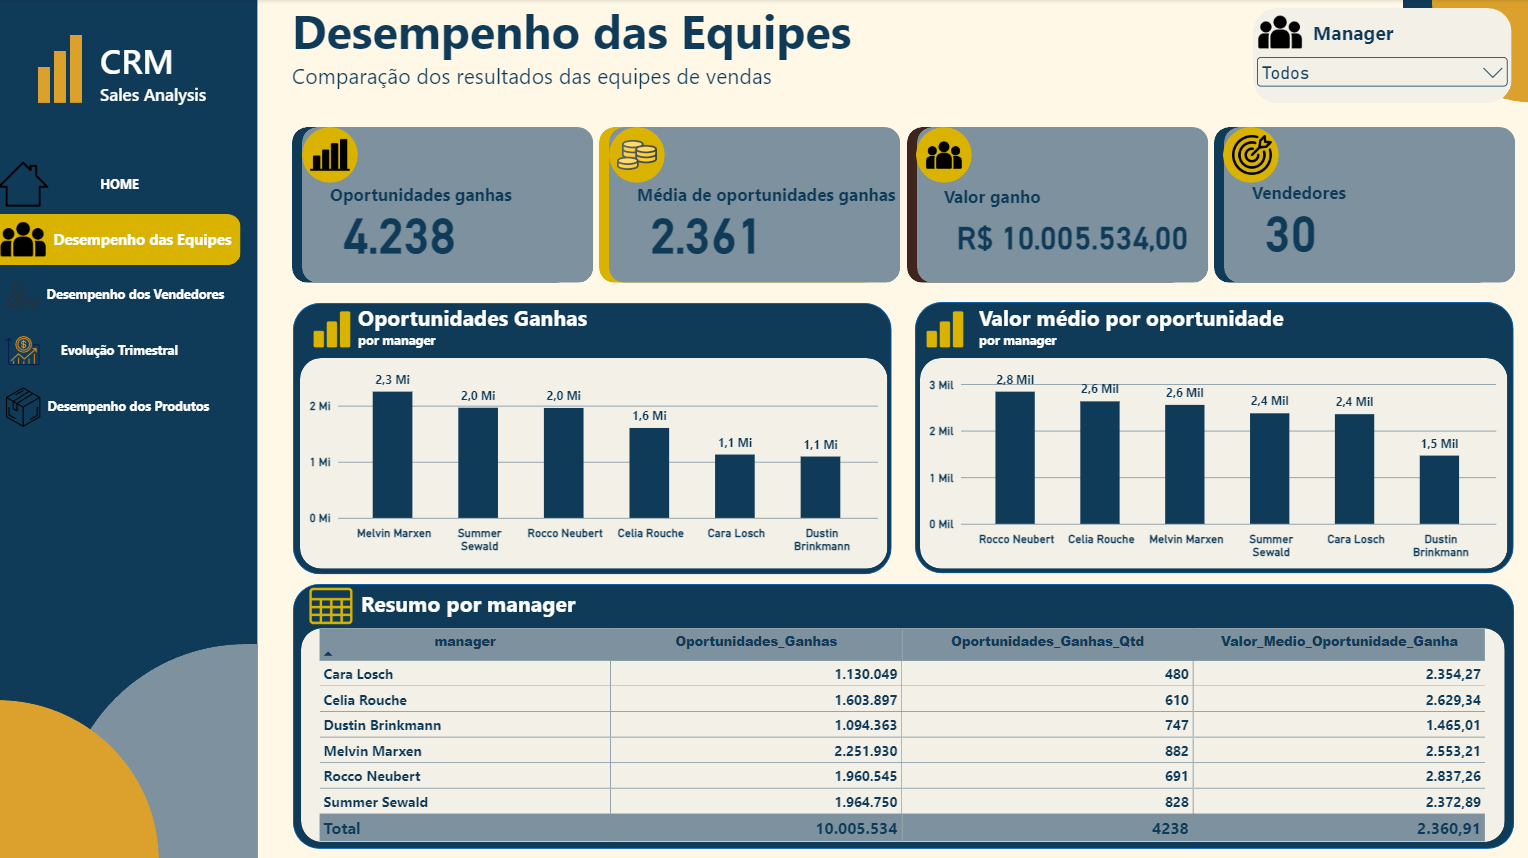

This screenshot's page, from the dashboard's own definition file:
{"tool":"powerbi","page":{"name":"Desempenho das equipes","canvas":[1920,1080],"ordinal":1},"visuals":[{"type":"shape","box":[0,0,325,1080],"z":0,"group":"g1"},{"type":"shape","box":[0,0,1920,1080],"z":0},{"type":"group","id":"g1","title":"obj menu","box":[0,0,325,1080],"z":0,"group":"g4"},{"type":"shape","box":[1760.9,0,159.1,98.7],"z":0,"group":"g9"},{"type":"shape","box":[1572.2,11.8,324.2,119.4],"z":0,"group":"g17"},{"type":"shape","box":[368,160.4,350.5,195.3],"z":0,"group":"g13"},{"type":"shape","box":[753,160.4,350.5,195.3],"z":0,"group":"g6"},{"type":"shape","box":[1138,160.4,350.5,195.3],"z":0,"group":"g5"},{"type":"shape","box":[1523,160.4,350.5,195.3],"z":0,"group":"g2"},{"type":"group","id":"g2","title":"Cartão n. Vendedores","box":[1523,160.4,377,195.3],"z":0,"group":"g12"},{"type":"actionButton","box":[0,200,304,64],"z":0,"group":"g7"},{"type":"actionButton","box":[0,270,304,64],"z":0,"group":"g10"},{"type":"actionButton","box":[0,340,304,64],"z":0,"group":"g14"},{"type":"shape","box":[1149.2,380.2,750,340],"z":0,"group":"g11"},{"type":"shape","box":[369.7,382,750,340],"z":0,"group":"g8"},{"type":"actionButton","box":[0,410,304,64],"z":0,"group":"g16"},{"type":"actionButton","box":[0,480,304,64],"z":0,"group":"g18"},{"type":"group","id":"g3","title":"Resumo por manager","box":[370,733.4,1530,346.8],"z":0,"group":"g15"},{"type":"shape","box":[370,733.4,1530,331.7],"z":0,"group":"g3"},{"type":"group","id":"g4","title":"Menu","box":[0,0,325,1080],"z":500},{"type":"group","id":"g5","title":"Cartão valor ganho ","box":[1138,160.4,377,195.3],"z":500,"group":"g12"},{"type":"shape","box":[1796.2,0,123.8,129.7],"z":1000,"group":"g9"},{"type":"slicer","fields":{"Values":["crm_sales sales_teams.manager"]},"box":[1572.2,67.8,324.2,61.9],"z":1000,"group":"g17"},{"type":"shape","box":[50,85,15,45],"z":1000,"group":"g1"},{"type":"shape","box":[380,160,365,195.3],"z":1000,"group":"g13"},{"type":"group","id":"g6","title":"Cartão média de oportunidades ganhas","box":[753,160.4,377,195.3],"z":1000,"group":"g12"},{"type":"shape","box":[765,160.4,365,195.3],"z":1000,"group":"g6"},{"type":"shape","box":[1150,160.4,365,195.3],"z":1000,"group":"g5"},{"type":"shape","box":[1535,160.4,365,195.3],"z":1000,"group":"g2"},{"type":"group","id":"g7","title":"Home","box":[0,200,304.3,64.6],"z":1000,"group":"g4"},{"type":"textbox","box":[0,200.6,304.3,64],"z":1000,"group":"g7"},{"type":"image","box":[0,269.7,63.4,63.4],"z":1000,"group":"g10"},{"type":"textbox","box":[0,340.4,304.3,64],"z":1000,"group":"g14"},{"type":"group","id":"g8","title":"Oportunidades ganhas","box":[369.7,381.7,771.2,340.3],"z":1000,"group":"g15"},{"type":"textbox","box":[0,410,304.3,64],"z":1000,"group":"g16"},{"type":"shape","box":[1156,450,736,264],"z":1000,"group":"g11"},{"type":"shape","box":[378,450.1,736,264],"z":1000,"group":"g8"},{"type":"textbox","box":[0,480,304.3,64],"z":1000,"group":"g18"},{"type":"shape","box":[380,788.4,1508.3,268.3],"z":1000,"group":"g3"},{"type":"textbox","box":[368.4,0,1146.4,160.6],"z":2000,"group":"g9"},{"type":"group","id":"g9","title":"Título &  obj","box":[368.4,0,1551.6,160.6],"z":2000},{"type":"image","box":[1575.1,11.8,63.4,60.4],"z":2000,"group":"g17"},{"type":"shape","box":[70,65,15,65],"z":2000,"group":"g1"},{"type":"shape","box":[765.6,160.4,70,70],"z":2000,"group":"g6"},{"type":"shape","box":[1149.2,160.4,70,70],"z":2000,"group":"g5"},{"type":"shape","box":[1534.6,160.4,70,70],"z":2000,"group":"g2"},{"type":"image","box":[0,200.4,63.4,63.4],"z":2000,"group":"g7"},{"type":"cardVisual","title":"Oportunidades ganhas","fields":{"Data":["crm_sales sales_pipeline.Oportunidades_Ganhas_Qtd_Display"]},"box":[415,230,330,104],"z":2000,"group":"g13"},{"type":"group","id":"g10","title":"Desempenho das equipes","box":[0,269.7,304.3,64.3],"z":2000,"group":"g4"},{"type":"textbox","box":[0,270,304.3,64],"z":2000,"group":"g10"},{"type":"image","box":[0,340.4,63.4,63.4],"z":2000,"group":"g14"},{"type":"group","id":"g11","title":"Valor médio oportunidade","box":[1149.2,380.2,770.8,340],"z":2000,"group":"g15"},{"type":"image","box":[0,409.6,63.4,63.4],"z":2000,"group":"g16"},{"type":"columnChart","fields":{"Category":["crm_sales sales_teams.manager"],"Y":["crm_sales sales_pipeline.Valor_Medio_Oportunidade_Ganha"]},"box":[1150,441.5,742.9,278.6],"z":2000,"group":"g11"},{"type":"clusteredColumnChart","fields":{"Category":["crm_sales sales_teams.manager"],"Y":["crm_sales sales_pipeline.Oportunidades_Ganhas"]},"box":[369.9,442.1,748.5,271.1],"z":2000,"group":"g8"},{"type":"image","box":[0,480.4,63.4,63.4],"z":2000,"group":"g18"},{"type":"tableEx","fields":{"Values":["crm_sales sales_teams.manager","crm_sales sales_pipeline.Oportunidades_Ganhas","crm_sales sales_pipeline.Oportunidades_Ganhas_Qtd","crm_sales sales_pipeline.Valor_Medio_Oportunidade_Ganha"]},"box":[386.1,775.1,1507.4,305],"z":2000,"group":"g3"},{"type":"textbox","box":[1647.3,25.1,253.4,60.4],"z":3000,"group":"g17"},{"type":"shape","box":[90,45,15,85],"z":3000,"group":"g1"},{"type":"group","id":"g12","title":"Cartões","box":[368,160,1532,195.7],"z":3000},{"type":"group","id":"g13","title":"Cartão Oportunidade ganhas","box":[368,160,377,195.7],"z":3000,"group":"g12"},{"type":"shape","box":[380.2,160.4,70,70],"z":3000,"group":"g13"},{"type":"image","box":[1159,170,50,50],"z":3000,"group":"g5"},{"type":"actionButton","box":[0,200,304,64],"z":3000,"group":"g7"},{"type":"cardVisual","title":"Vendedores","fields":{"Data":["crm_sales sales_pipeline.Qtd_Vendedores"]},"box":[1570,228.5,330,104],"z":3000,"group":"g2"},{"type":"cardVisual","title":"Média de oportunidades ganhas","fields":{"Data":["crm_sales sales_pipeline.Valor_Medio_Oportunidade_Ganha_Display"]},"box":[800,230,330,104],"z":3000,"group":"g6"},{"type":"group","id":"g14","title":"Desempenho dos vendedores","box":[0,340,304.3,64.4],"z":3000,"group":"g4"},{"type":"actionButton","box":[0,340,304,64],"z":3000,"group":"g14"},{"type":"textbox","box":[1230,381.5,690,70],"z":3000,"group":"g11"},{"type":"image","box":[390.5,386.1,54.5,56],"z":3000,"group":"g8"},{"type":"actionButton","box":[0,410,304,64],"z":3000,"group":"g16"},{"type":"actionButton","box":[0,480.4,304,64],"z":3000,"group":"g18"},{"type":"image","box":[387.5,733.9,60.4,54.5],"z":3000,"group":"g3"},{"type":"textbox","box":[128,48,160,96],"z":4000,"group":"g1"},{"type":"image","box":[390,170.6,50,50],"z":4000,"group":"g13"},{"type":"image","box":[775,171,50,50],"z":4000,"group":"g6"},{"type":"image","box":[1545,171,50,50],"z":4000,"group":"g2"},{"type":"cardVisual","title":"Valor ganho","fields":{"Data":["crm_sales sales_pipeline.Oportunidades_Ganhas_Display"]},"box":[1184.3,232.8,330,104],"z":4000,"group":"g5"},{"type":"group","id":"g15","title":"Gráficos & Tabelas","box":[369.7,380.2,1550.3,699.9],"z":4000},{"type":"textbox","box":[450.9,381.7,690,70],"z":4000,"group":"g8"},{"type":"image","box":[1159.7,386.1,54.5,56],"z":4000,"group":"g11"},{"type":"group","id":"g16","title":"Evolução Trimestral","box":[0,409.6,304.3,64.4],"z":4000,"group":"g4"},{"type":"textbox","box":[455.3,739.8,690,70],"z":4000,"group":"g3"},{"type":"group","id":"g17","title":"Filtro","box":[1572.2,11.8,328.6,119.4],"z":4500},{"type":"group","id":"g18","title":"Desempenho dos produtos","box":[0,480,304.3,64.4],"z":5000,"group":"g4"},{"type":"shape","box":[78.3,808.3,246.7,271.7],"z":5000,"group":"g1"},{"type":"shape","box":[0,878.3,201.7,201.7],"z":6000,"group":"g1"}]}

Visuals, with their boxes in screenshot pixels (x1, y1, x2, y2), scaled from the page's 1920x1080 canvas onto the 1528x858 screenshot:
shape: region(0, 0, 259, 857)
shape: region(0, 0, 1527, 857)
"obj menu" group: region(0, 0, 259, 857)
shape: region(1401, 0, 1527, 78)
shape: region(1251, 9, 1509, 104)
shape: region(293, 127, 572, 283)
shape: region(599, 127, 878, 283)
shape: region(906, 127, 1185, 283)
shape: region(1212, 127, 1491, 283)
"Cartão n. Vendedores" group: region(1212, 127, 1512, 283)
actionButton: region(0, 159, 242, 210)
actionButton: region(0, 214, 242, 265)
actionButton: region(0, 270, 242, 321)
shape: region(915, 302, 1511, 572)
shape: region(294, 303, 891, 574)
actionButton: region(0, 326, 242, 377)
actionButton: region(0, 381, 242, 432)
"Resumo por manager" group: region(294, 583, 1512, 857)
shape: region(294, 583, 1512, 846)
"Menu" group: region(0, 0, 259, 857)
"Cartão valor ganho " group: region(906, 127, 1206, 283)
shape: region(1429, 0, 1527, 103)
slicer - crm_sales sales_teams.manager: region(1251, 54, 1509, 103)
shape: region(40, 68, 52, 103)
shape: region(302, 127, 593, 282)
"Cartão média de oportunidades ganhas" group: region(599, 127, 899, 283)
shape: region(609, 127, 899, 283)
shape: region(915, 127, 1206, 283)
shape: region(1222, 127, 1512, 283)
"Home" group: region(0, 159, 242, 210)
textbox: region(0, 159, 242, 210)
image: region(0, 214, 50, 265)
textbox: region(0, 270, 242, 321)
"Oportunidades ganhas" group: region(294, 303, 908, 574)
textbox: region(0, 326, 242, 377)
shape: region(920, 358, 1506, 567)
shape: region(301, 358, 887, 567)
textbox: region(0, 381, 242, 432)
shape: region(302, 626, 1503, 839)
textbox: region(293, 0, 1206, 128)
"Título &  obj" group: region(293, 0, 1527, 128)
image: region(1254, 9, 1304, 57)
shape: region(56, 52, 68, 103)
shape: region(609, 127, 665, 183)
shape: region(915, 127, 970, 183)
shape: region(1221, 127, 1277, 183)
image: region(0, 159, 50, 210)
"Oportunidades ganhas" cardVisual: region(330, 183, 593, 265)
"Desempenho das equipes" group: region(0, 214, 242, 265)
textbox: region(0, 214, 242, 265)
image: region(0, 270, 50, 321)
"Valor médio oportunidade" group: region(915, 302, 1527, 572)
image: region(0, 325, 50, 376)
columnChart - crm_sales sales_teams.manager x crm_sales sales_pipeline.Valor_Medio_Oportunidade_Ganha: region(915, 351, 1506, 572)
clusteredColumnChart - crm_sales sales_teams.manager x crm_sales sales_pipeline.Oportunidades_Ganhas: region(294, 351, 890, 567)
image: region(0, 382, 50, 432)
tableEx - crm_sales sales_teams.manager x crm_sales sales_pipeline.Oportunidades_Ganhas: region(307, 616, 1507, 857)
textbox: region(1311, 20, 1513, 68)
shape: region(72, 36, 84, 103)
"Cartões" group: region(293, 127, 1512, 283)
"Cartão Oportunidade ganhas" group: region(293, 127, 593, 283)
shape: region(303, 127, 358, 183)
image: region(922, 135, 962, 175)
actionButton: region(0, 159, 242, 210)
"Vendedores" cardVisual: region(1249, 182, 1512, 264)
"Média de oportunidades ganhas" cardVisual: region(637, 183, 899, 265)
"Desempenho dos vendedores" group: region(0, 270, 242, 321)
actionButton: region(0, 270, 242, 321)
textbox: region(979, 303, 1527, 359)
image: region(311, 307, 354, 351)
actionButton: region(0, 326, 242, 377)
actionButton: region(0, 382, 242, 432)
image: region(308, 583, 356, 626)
textbox: region(102, 38, 229, 114)
image: region(310, 136, 350, 175)
image: region(617, 136, 657, 176)
image: region(1230, 136, 1269, 176)
"Valor ganho" cardVisual: region(943, 185, 1205, 268)
"Gráficos & Tabelas" group: region(294, 302, 1527, 857)
textbox: region(359, 303, 908, 359)
image: region(923, 307, 966, 351)
"Evolução Trimestral" group: region(0, 325, 242, 377)
textbox: region(362, 588, 911, 643)
"Filtro" group: region(1251, 9, 1513, 104)
"Desempenho dos produtos" group: region(0, 381, 242, 432)
shape: region(62, 642, 259, 857)
shape: region(0, 698, 161, 857)
